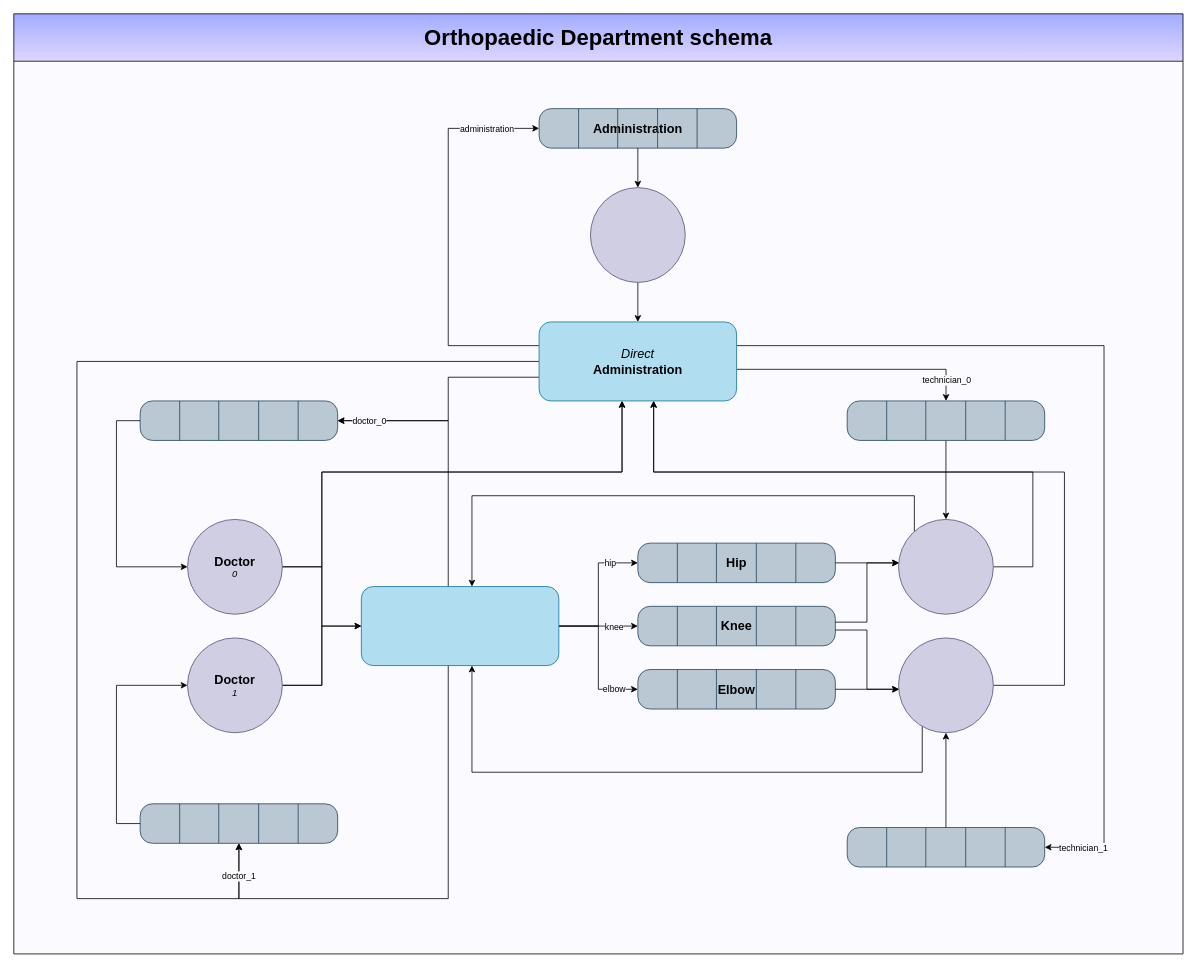
The diagram is 1197 pixels wide and 968 high, and some of its shapes have lost their labels. The shapes that lost their labels are listed below. From the top down, each one's centre as x and y in pixels, then its label:
(x=637, y=234): Administrator 0
(x=945, y=566): Technician 0
(x=460, y=626): Direct MedicalExaminations
(x=945, y=685): Technician 1
